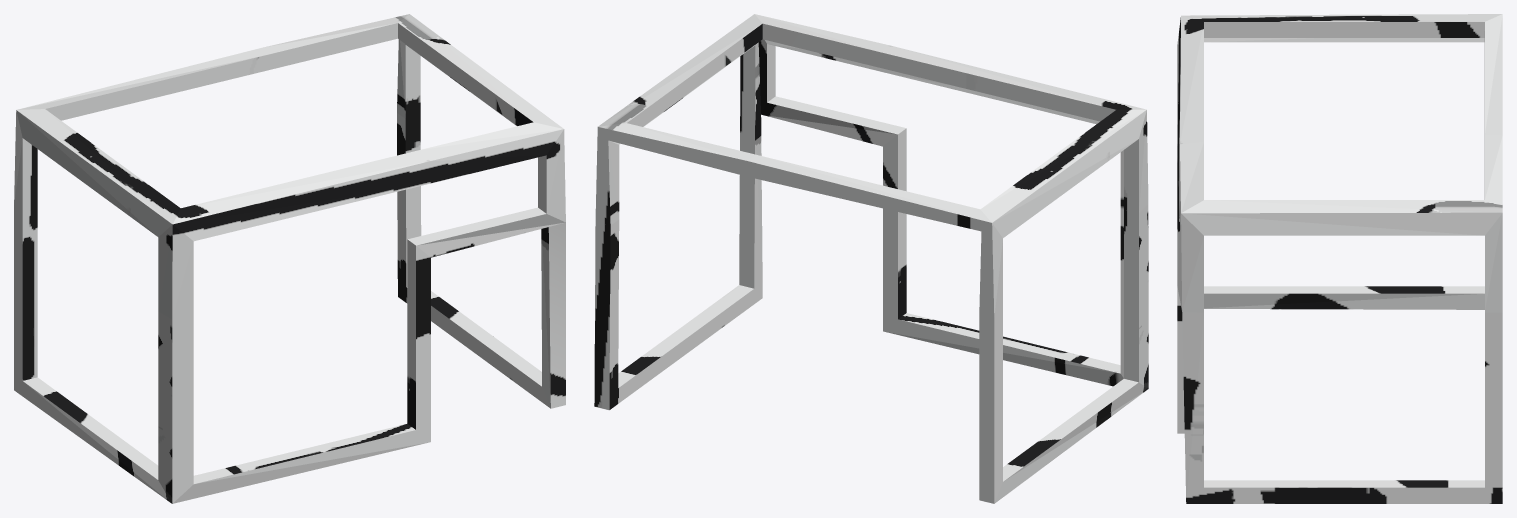
File: Room Structure.FBX
The picture shows the model from 3 angles, left to right: view 1: azimuth 30°, elevation 25°; view 2: azimuth 150°, elevation 25°; view 3: azimuth 270°, elevation 25°; orthographic projection. The views are drawn at different scales.
Parts seen in each view (by area): view 1: Object122; view 2: Object122; view 3: Object122.
Boxes of the visible parts, bbox=[...] form: Object122: bbox=[14, 14, 565, 503]; Object122: bbox=[594, 14, 1148, 503]; Object122: bbox=[1177, 14, 1502, 503].
Bounding box in the file's own units: 13.3 × 9 × 9.08.
